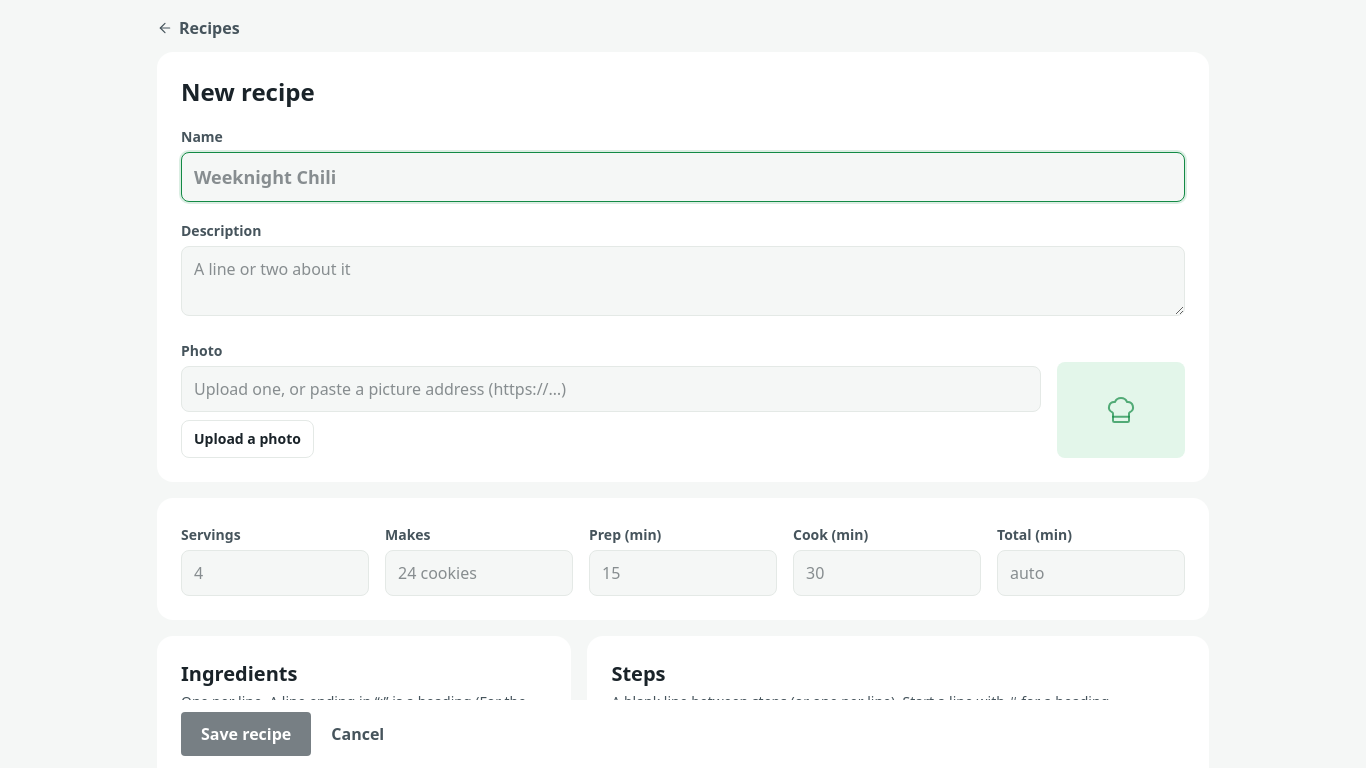
Scenario: adding a recipe by hand › when the server can't be reached, it says so in plain words and you can try again
Type "Pancakes" into the field labelled "Name" at (683, 177), box x1=181 y1=152 x2=1185 y2=202
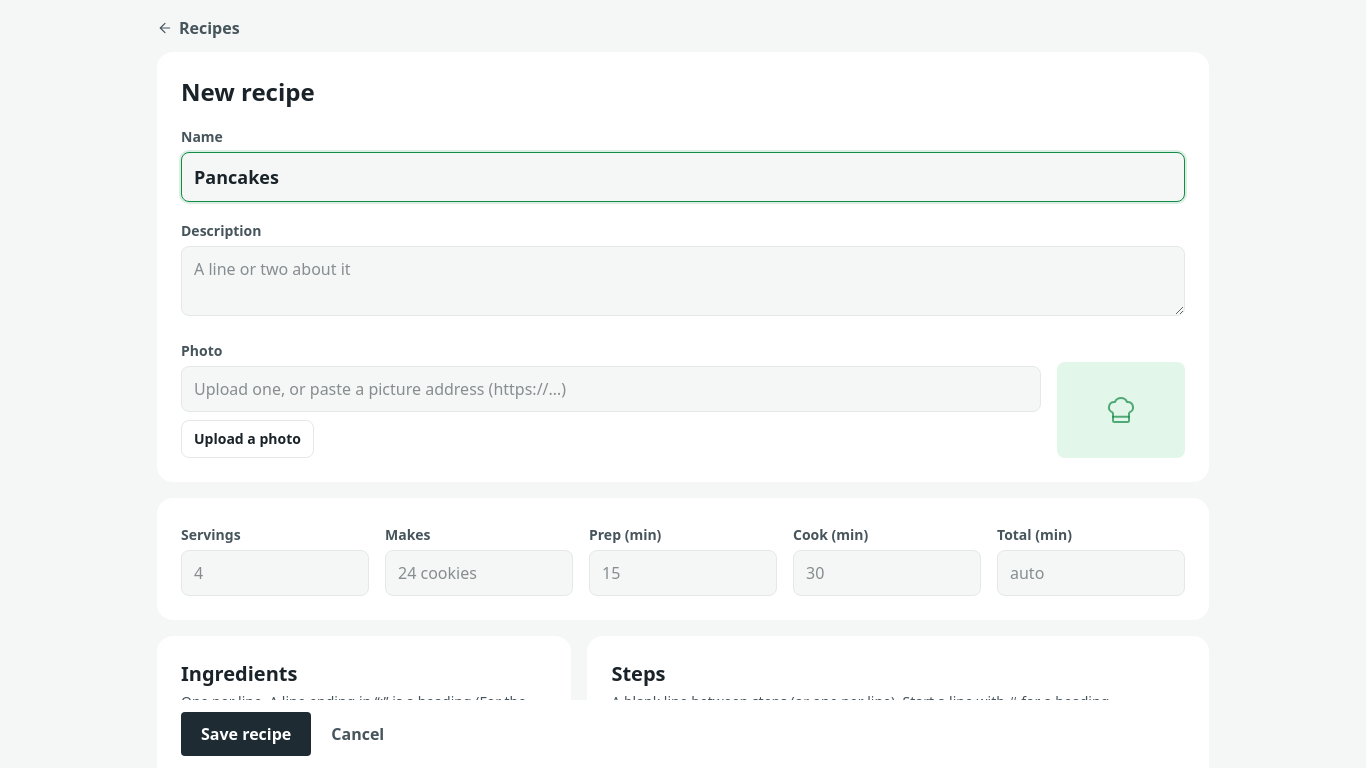
Click the button "Save recipe" at (246, 734), box x1=181 y1=712 x2=311 y2=756
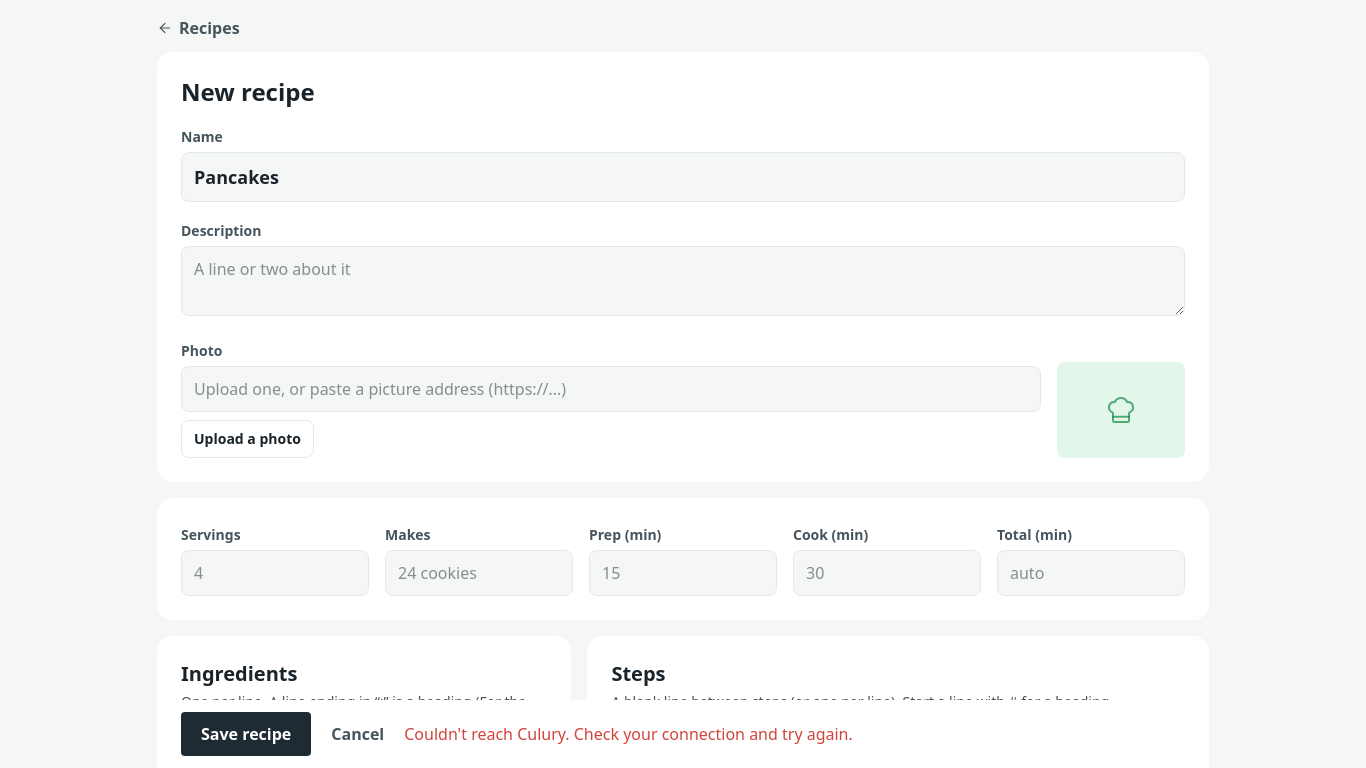
Expected: the button "Save recipe" is enabled, x1=181 y1=712 x2=311 y2=756
Expected: the text "Couldn't reach Culury. Check your connection and try again." is shown, x1=404 y1=722 x2=853 y2=746
